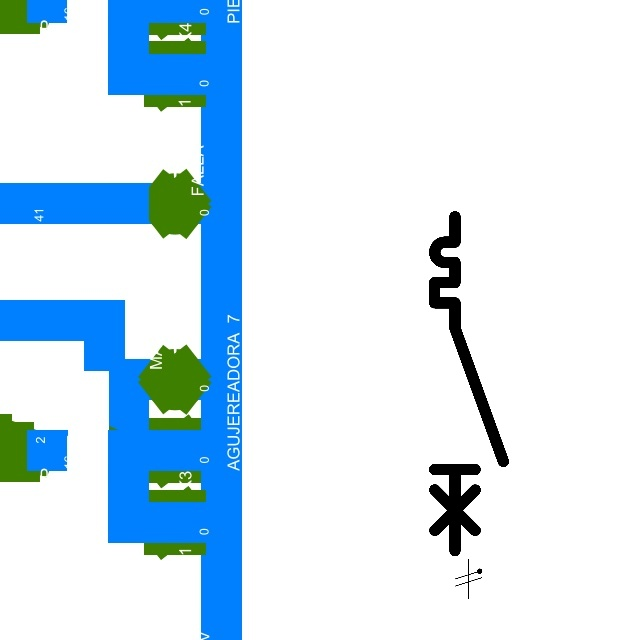interruptor_termomagnetico: (426, 208, 512, 559)
